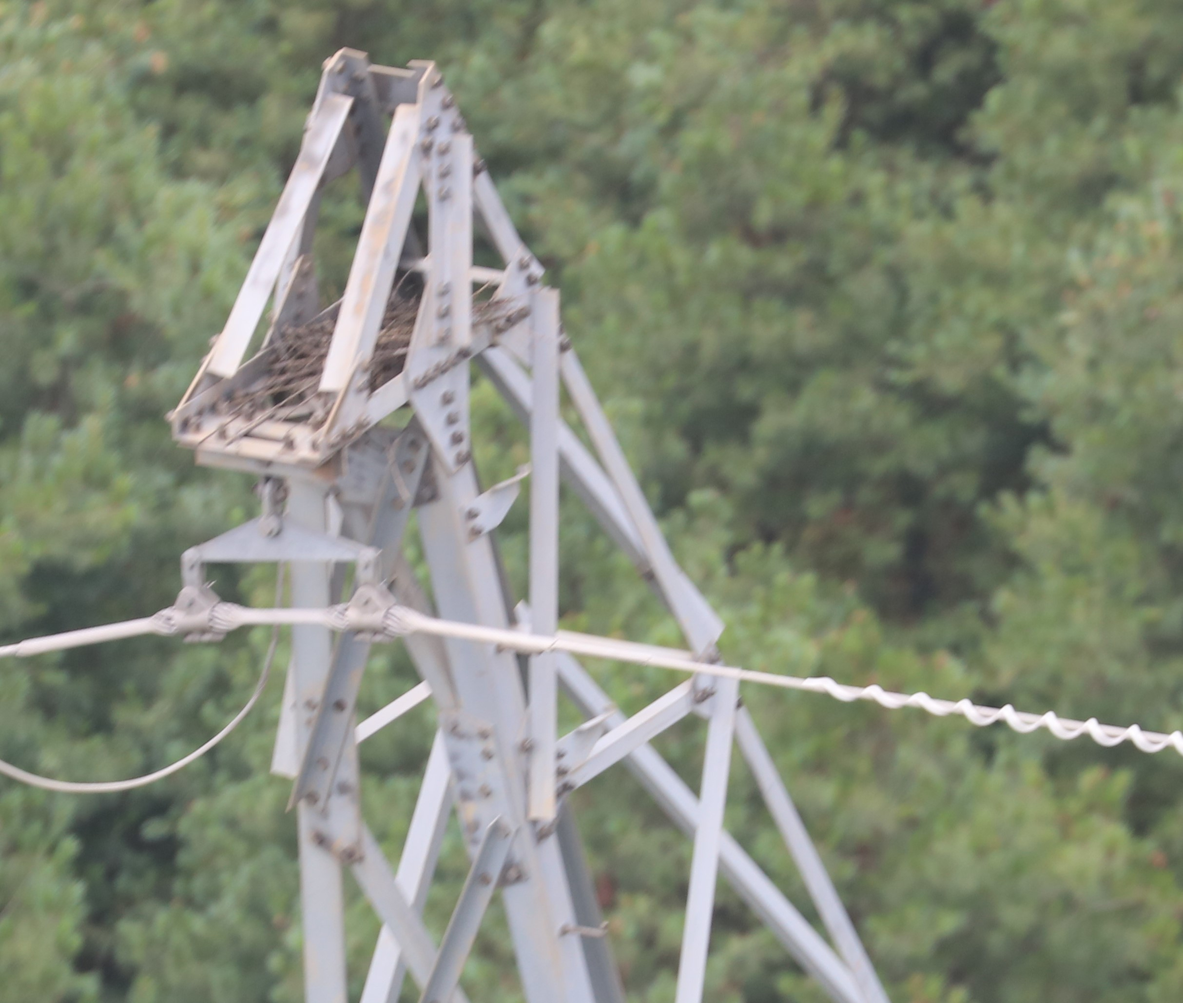nest: (232, 277, 517, 392)
